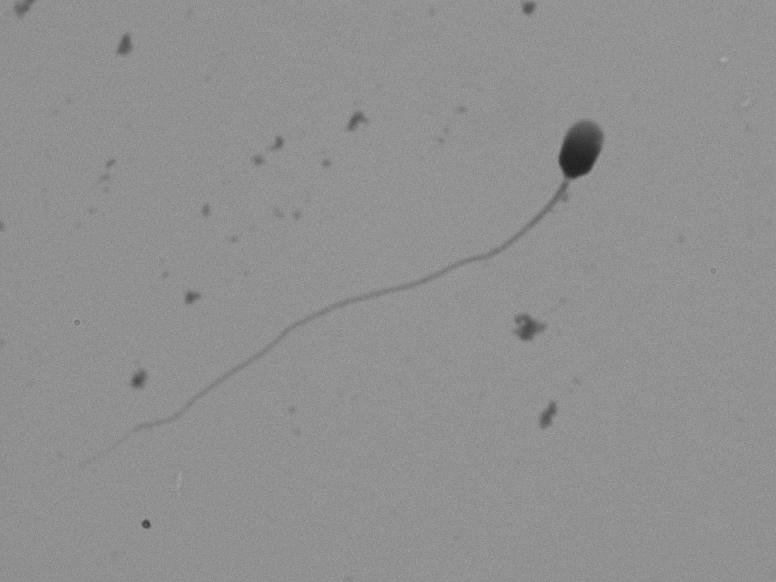Normal: (80, 96, 627, 474)
